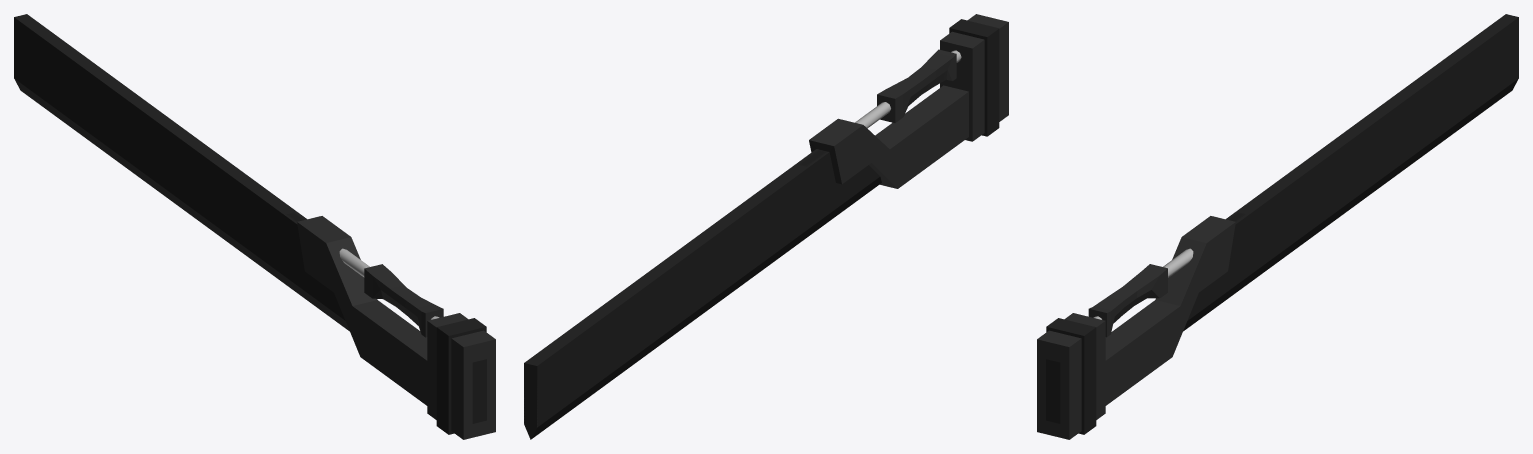
The model's file is katanaform(scabbard).FBX.
The picture shows the model from 3 angles, left to right: view 1: azimuth 30°, elevation 25°; view 2: azimuth 150°, elevation 25°; view 3: azimuth 330°, elevation 25°; orthographic projection.
Visible parts, largest first — view 1: Box038; view 2: Box038; view 3: Box038.
Boxes of the visible parts, box(x1,y1,x2,y2) form: Box038: box(14, 14, 495, 439); Box038: box(524, 14, 1008, 439); Box038: box(1037, 14, 1518, 439).
Bounding box in the file's own units: 5.21 × 13.03 × 110.
Materials: 1 (1 with a texture image).
